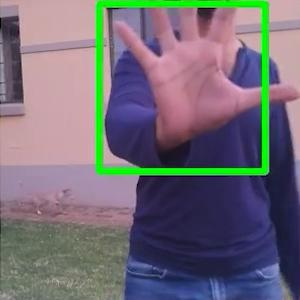follow_hand: (106, 0, 299, 149)
